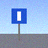sign: (11, 9, 26, 41)
